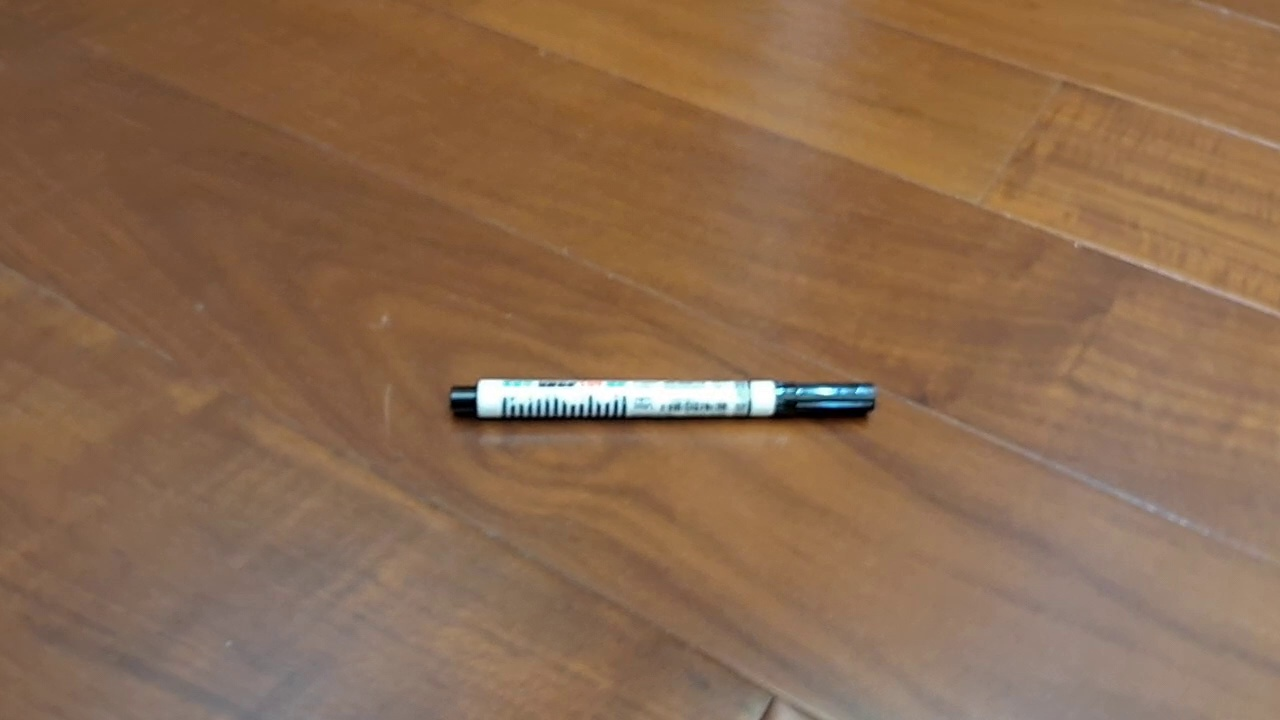pen: (448, 378, 877, 422)
